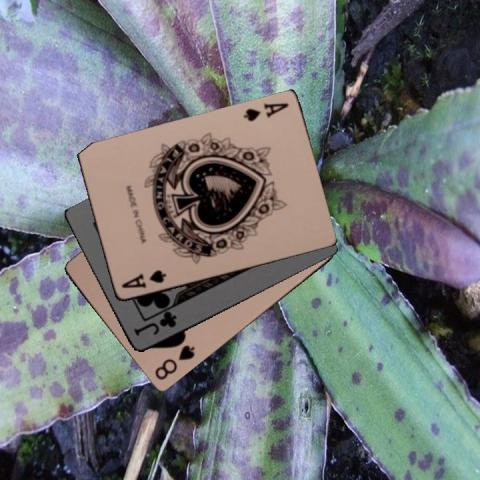8s: (151, 342, 197, 382)
As: (240, 100, 290, 123), (119, 267, 167, 290)
Jc: (131, 310, 178, 338)
